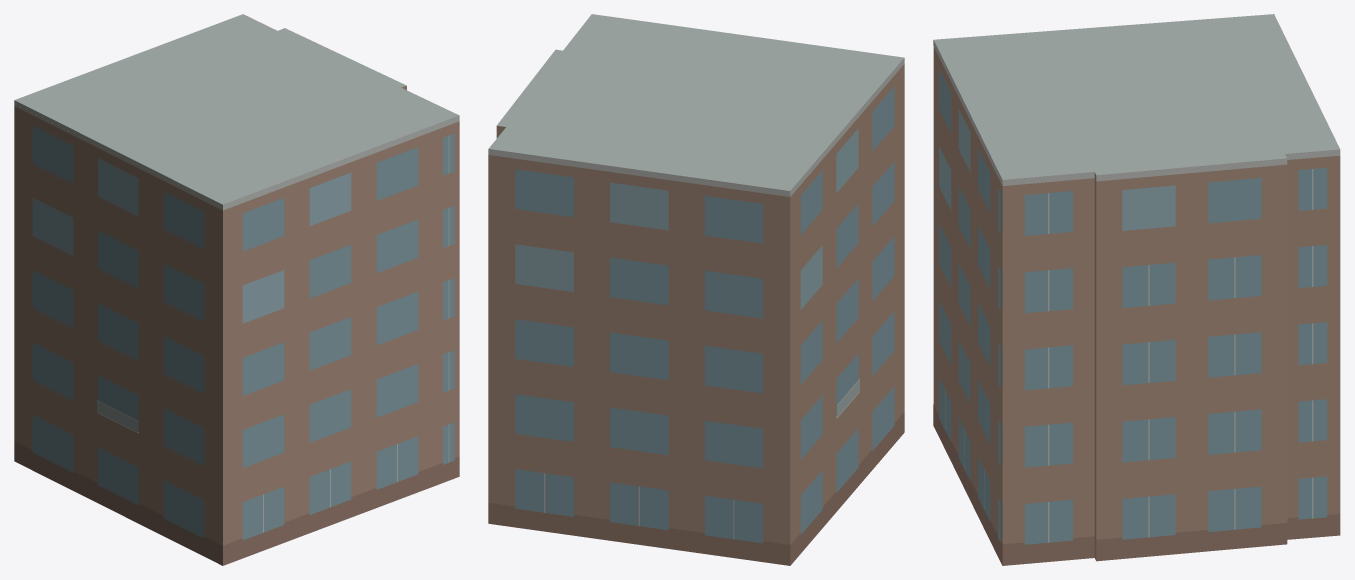
Rendered from survey-upis-33020272.glb.
3 views of the same model, side by side, from view 1: azimuth 30°, elevation 25°; view 2: azimuth 150°, elevation 25°; view 3: azimuth 270°, elevation 25° (orthographic). The views are drawn at different scales.
Parts seen in each view (by area): view 1: survey-upis-33020272.tmp; view 2: survey-upis-33020272.tmp; view 3: survey-upis-33020272.tmp.
Boxes of the visible parts, x1,y1,x2,y2 form: survey-upis-33020272.tmp: (14,14,459,565); survey-upis-33020272.tmp: (488,14,904,565); survey-upis-33020272.tmp: (933,14,1340,565).
Bounding box in the file's own units: 14.08 × 15.25 × 14.58.
